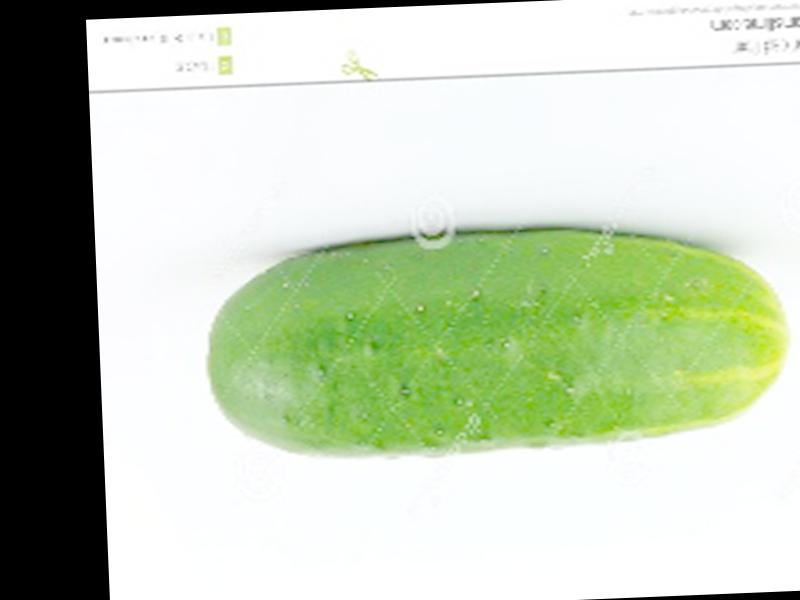Cucumber: (200, 218, 790, 461)
